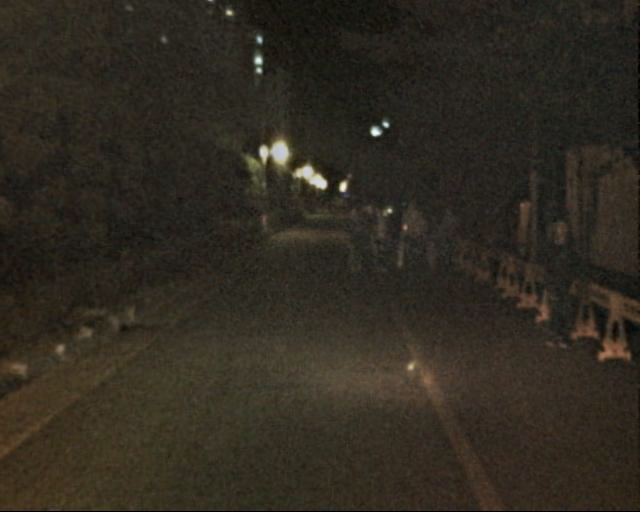person: (530, 218, 583, 347), (395, 198, 426, 274), (364, 203, 392, 272), (436, 204, 464, 272), (340, 204, 367, 270), (419, 213, 443, 272), (381, 207, 404, 263)
